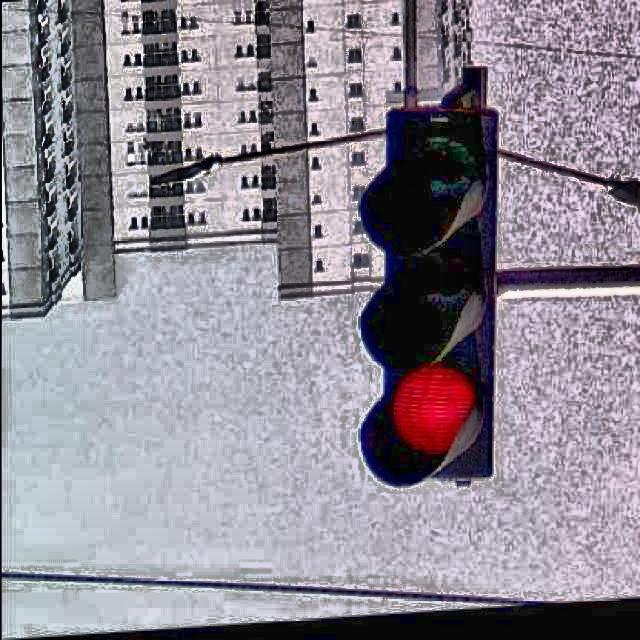red: (369, 86, 499, 488)
